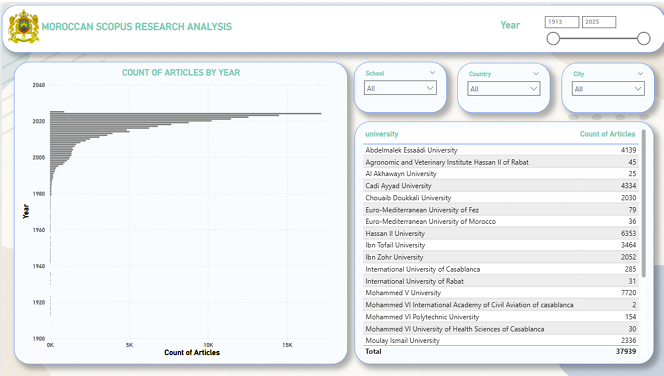

Layout of this report page (visuals, bound fields, positions):
{"tool":"powerbi","page":{"name":"Dashboard4","canvas":[1280,720],"ordinal":3},"visuals":[{"type":"slicer","fields":{"Values":["Affiliation.city"]},"box":[1081,113.4,179.5,96.4],"z":0},{"type":"slicer","fields":{"Values":["Affiliation.country"]},"box":[880.6,113.4,179.5,96.4],"z":1000},{"type":"slicer","fields":{"Values":["Affiliation.school"]},"box":[680.3,111.5,179.5,98.3],"z":2000},{"type":"barChart","title":"COUNT OF ARTICLES BY YEAR","fields":{"Category":["Metadata.year"],"Y":["CountNonNull(Metadata.doc_id)"]},"box":[22.7,111.5,644.4,583.9],"z":3000},{"type":"tableEx","fields":{"Values":["Affiliation.school","Metadata.doc_id"]},"box":[682.2,226.8,578.3,468.7],"z":4000},{"type":"textbox","box":[0,2,1280,92],"z":5000},{"type":"image","box":[0,0,84.5,84.5],"z":6000},{"type":"textbox","box":[71.8,26.5,393.1,41.6],"z":7000},{"type":"textbox","box":[958,24,68,34.7],"z":8000},{"type":"slicer","fields":{"Values":["Metadata.year"]},"box":[1026,3.3,244,86.7],"z":9000}]}

Visuals, with their boxes in screenshot pixels (x1, y1, x2, y2), scaled from the page's 1280x720 canvas onto the 664x376 screenshot:
slicer - Affiliation.city: region(561, 59, 654, 110)
slicer - Affiliation.country: region(457, 59, 550, 110)
slicer - Affiliation.school: region(353, 58, 446, 110)
"COUNT OF ARTICLES BY YEAR" barChart: region(12, 58, 346, 363)
tableEx - Affiliation.school x Metadata.doc_id: region(354, 118, 654, 363)
textbox: region(0, 1, 663, 49)
image: region(0, 0, 44, 44)
textbox: region(37, 14, 241, 36)
textbox: region(497, 13, 532, 31)
slicer - Metadata.year: region(532, 2, 659, 47)
